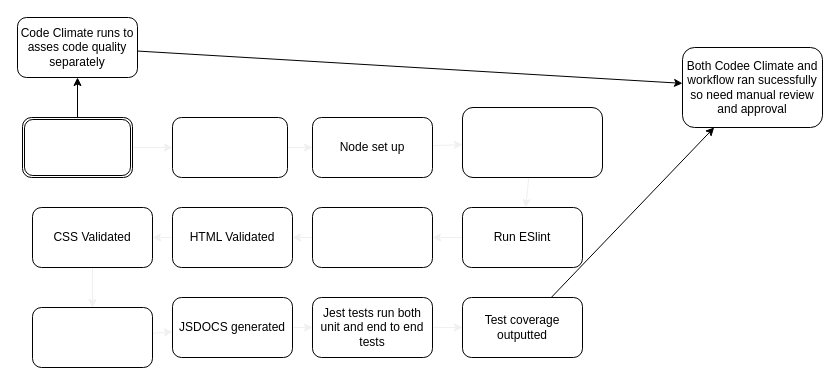
The diagram is 840 pixels wide and 385 high, and some of its shapes have lost their labels. The centre of each missing label's shape, as x and y in pixels:
Code checked out for pipeline to run: point 230,147
Dependencies/packages installed: point 532,142
JS Validated: point 92,337
Pull Request Created: point 77,147
Run Prettier: point 372,237
